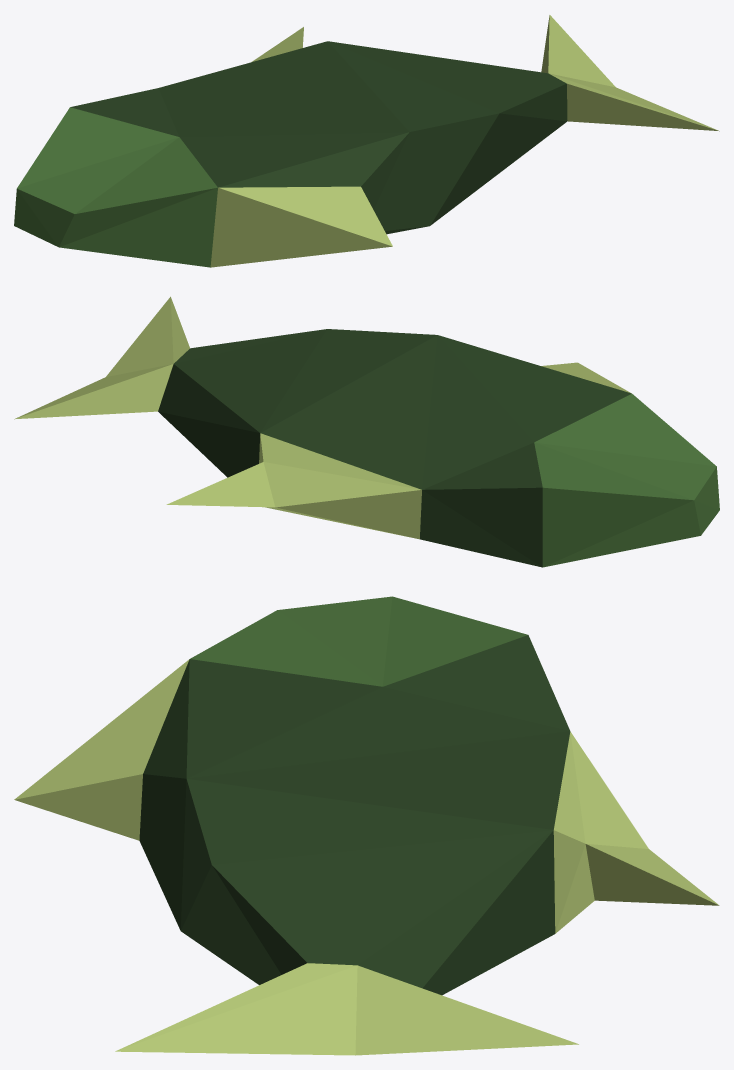
File: Fish_03.glb
The picture shows the model from 3 angles, top to bottom: view 1: azimuth 30°, elevation 25°; view 2: azimuth 150°, elevation 25°; view 3: azimuth 270°, elevation 25°; orthographic projection. The views are drawn at different scales.
Parts seen in each view (by area): view 1: Fish_03; view 2: Fish_03; view 3: Fish_03.
Part boxes in pixels (x1,y1,x2,y2): Fish_03: [14, 15, 719, 267]; Fish_03: [14, 296, 719, 567]; Fish_03: [14, 596, 719, 1055].
Bounding box in the file's own units: 0.3923 × 0.0595 × 0.2724.
1 material, 1 textured.
